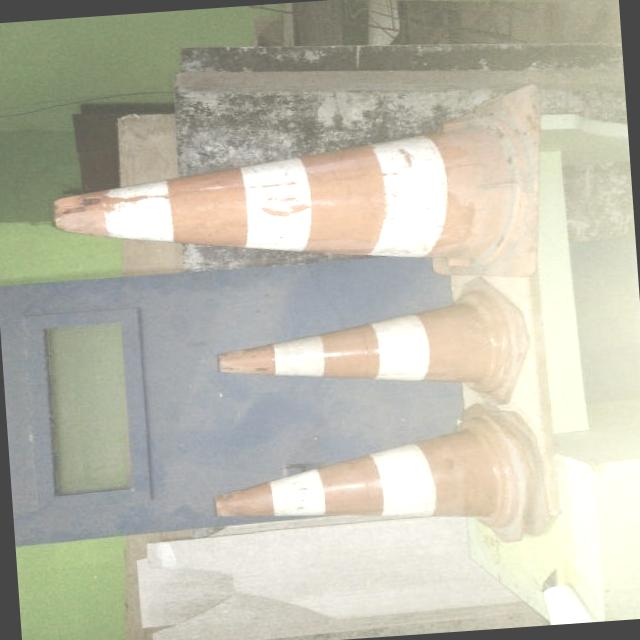cone: (51, 85, 551, 305), (195, 404, 541, 558), (200, 280, 538, 423)
